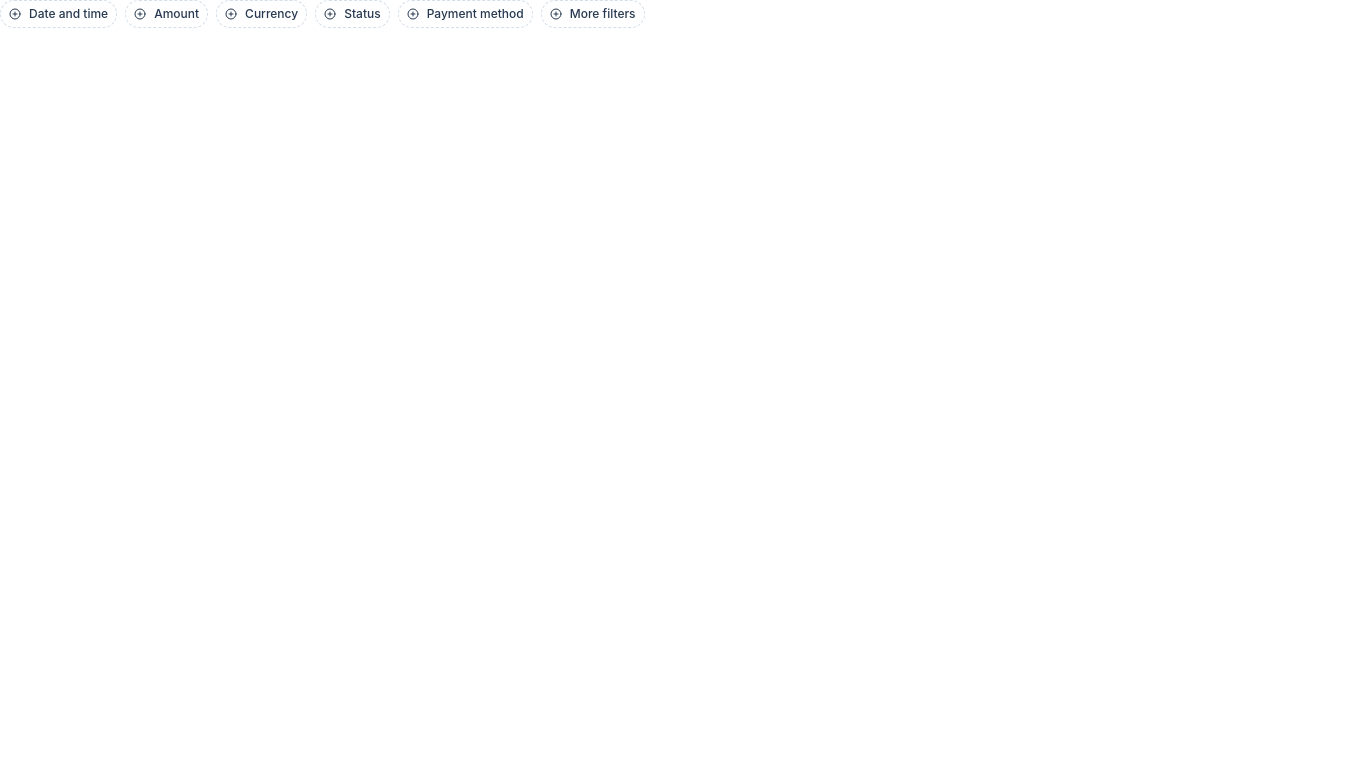
Test: FilterBar › status: apply emits only statuses, in Stripe order
This screenshot has width=1366, height=768.
What coordinates should you click on to do the following:
click the button "Status"
I would click on:
 (352, 14)
Its box is [315,0,390,28].
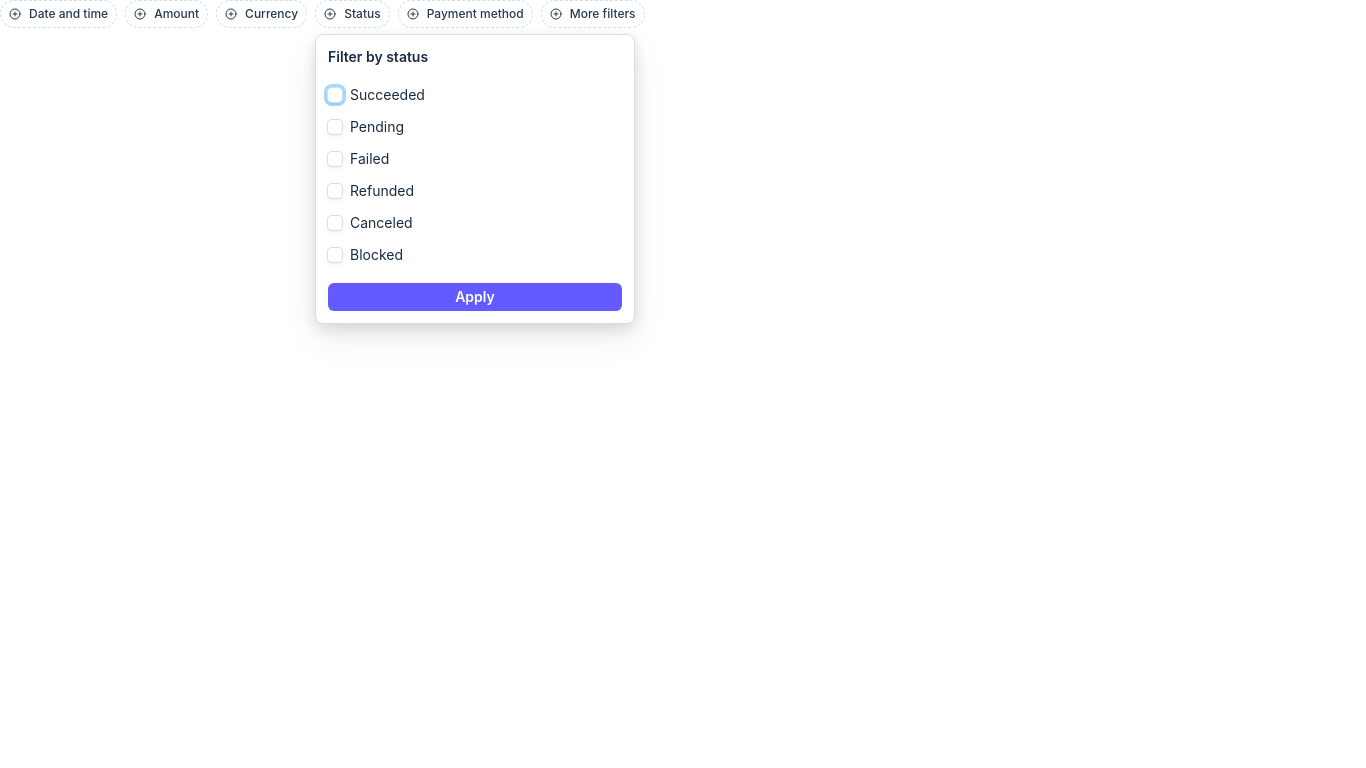
expect the heading "Filter by status" is shown: met, box [328,48,428,65]
What coordinates should you click on to do the following:
click the checkbox named "Failed"
I would click on:
 (335, 159)
Its box is [328,152,342,166].
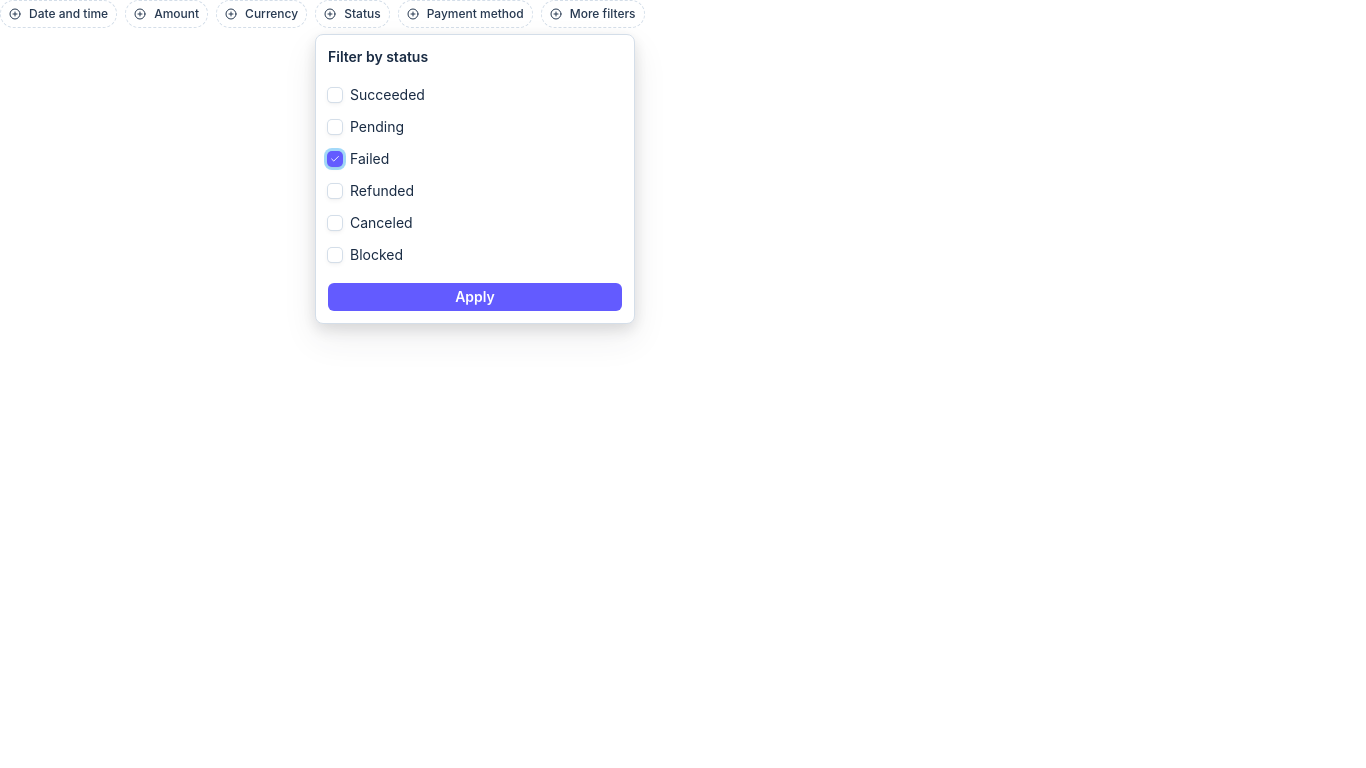
What coordinates should you click on to do the following:
click the checkbox named "Succeeded"
I would click on:
 (335, 95)
Its box is [328,88,342,102].
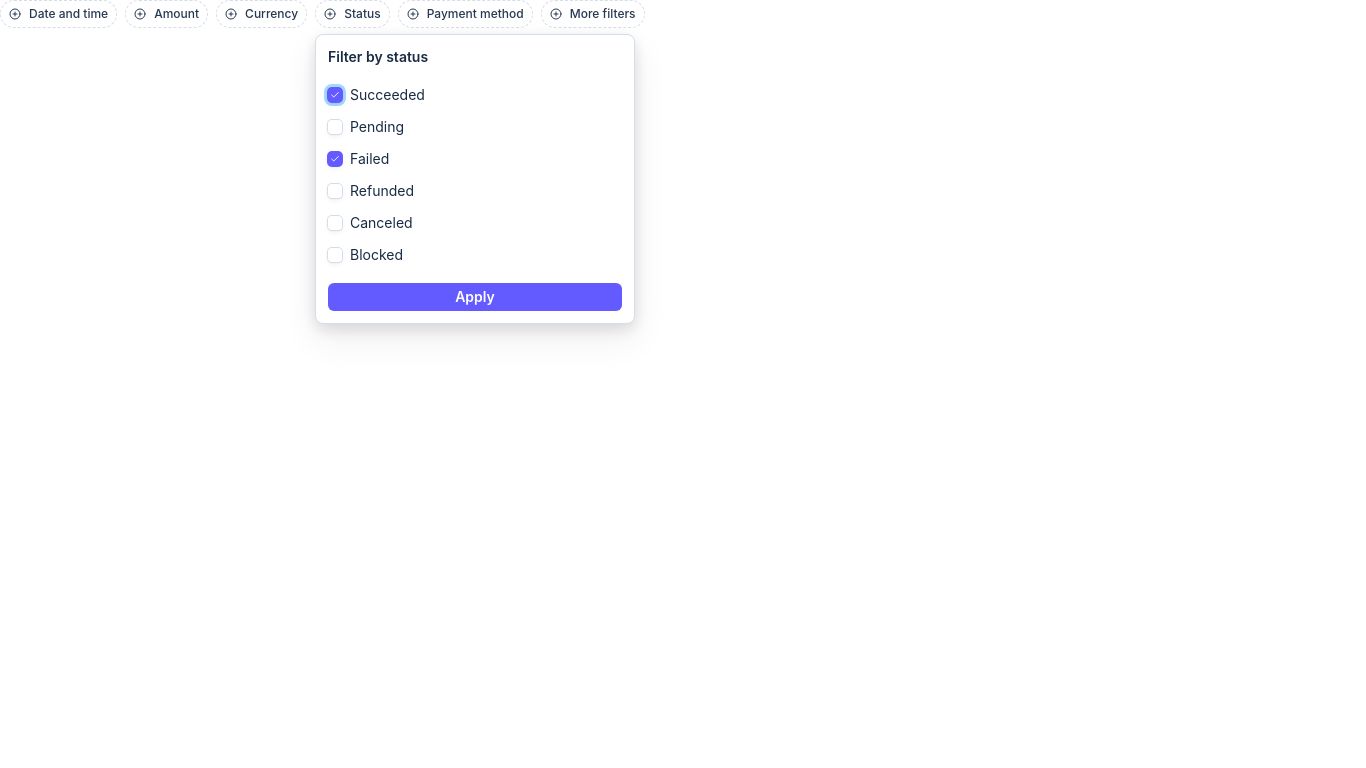
What coordinates should you click on to do the following:
click the button "Apply"
I would click on:
 (475, 297)
Its box is [328,283,622,311].
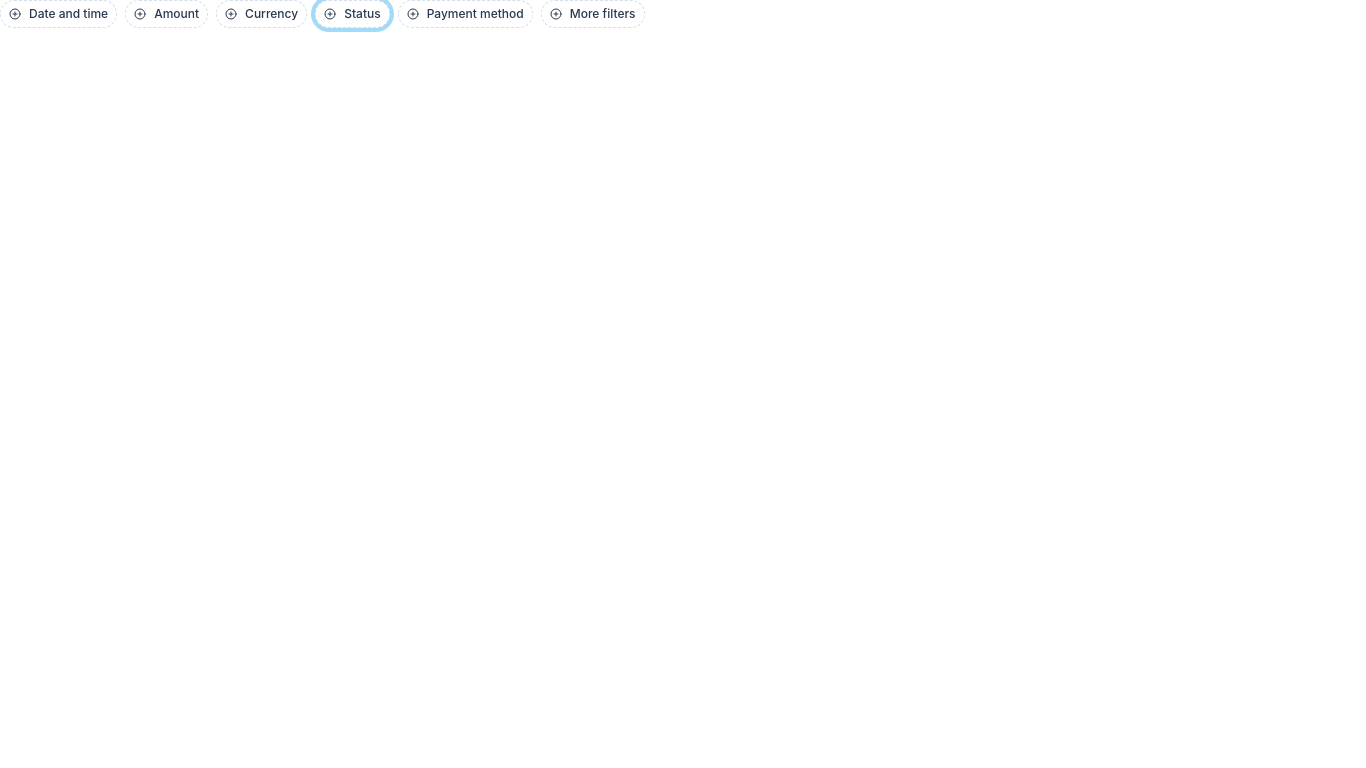
expect the heading "Filter by status" is gone: met
